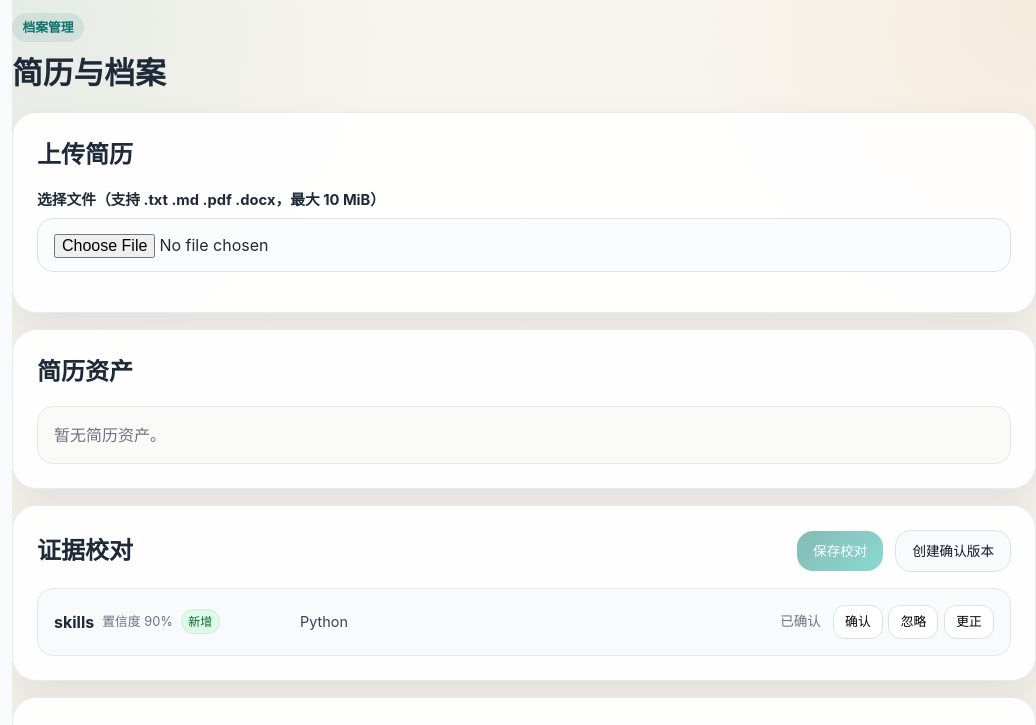
ProfileWorkspace › creates a confirmed version and reloads after a stale version conflict
This screenshot has width=1036, height=725.
Click the button with test id "create-version": point(953, 551) [895,530,1011,572]
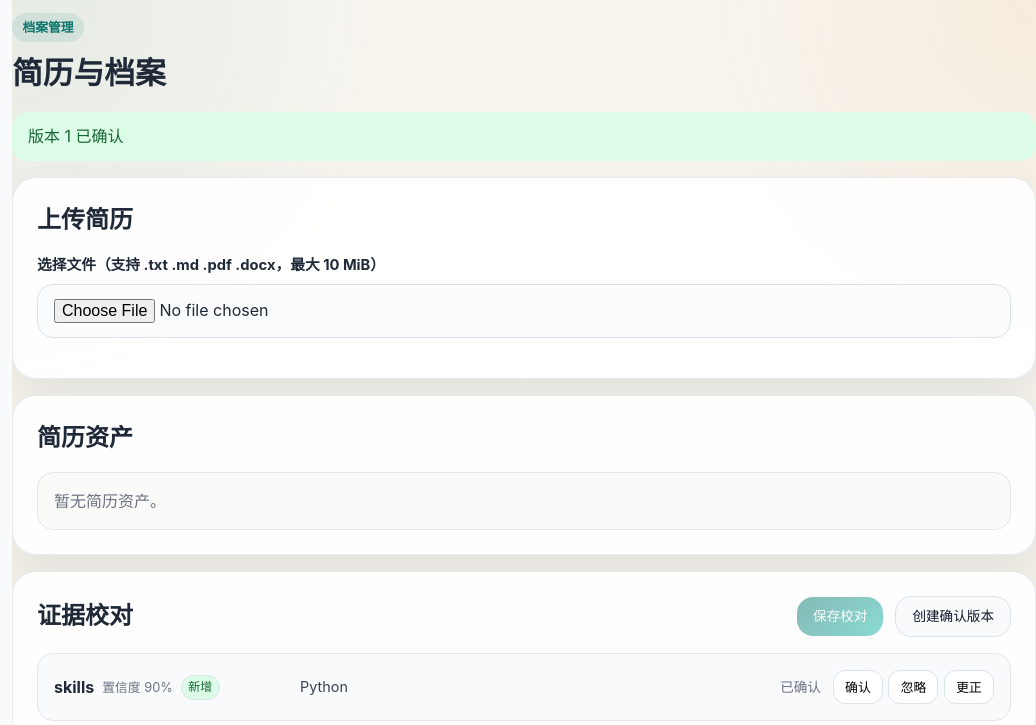
Expected: the text "版本 1 已确认" is shown, [12,112,1035,161]
Click the button with test id "create-version": point(953, 616) [895,596,1011,637]
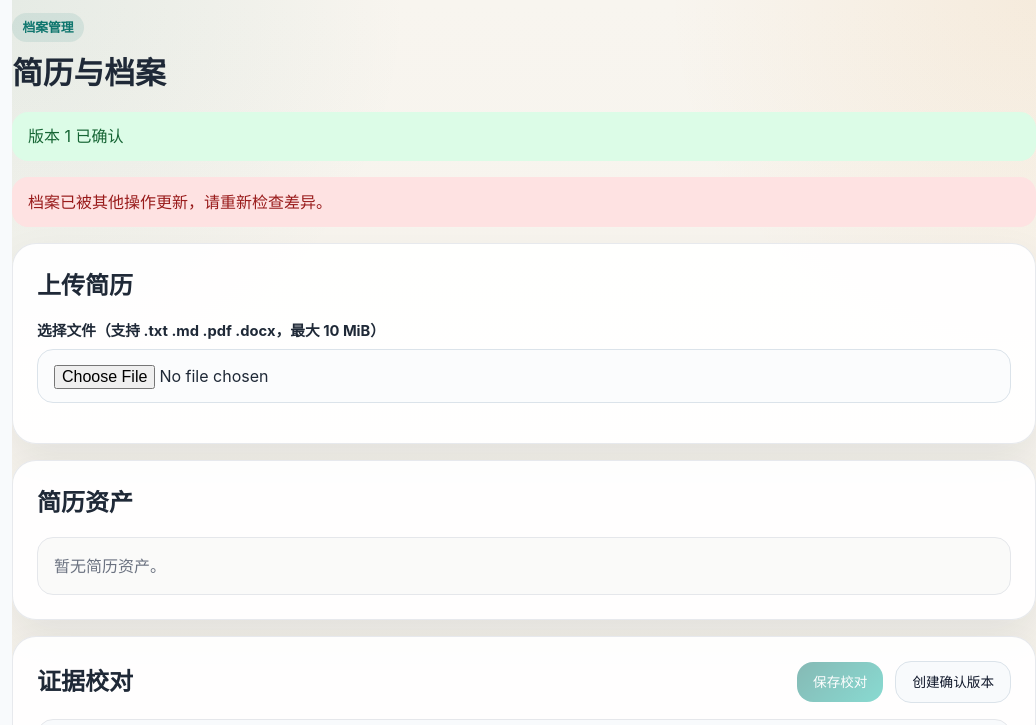
Expected: the text "档案已被其他操作更新，请重新检查差异。" is shown, [12,177,1035,227]
